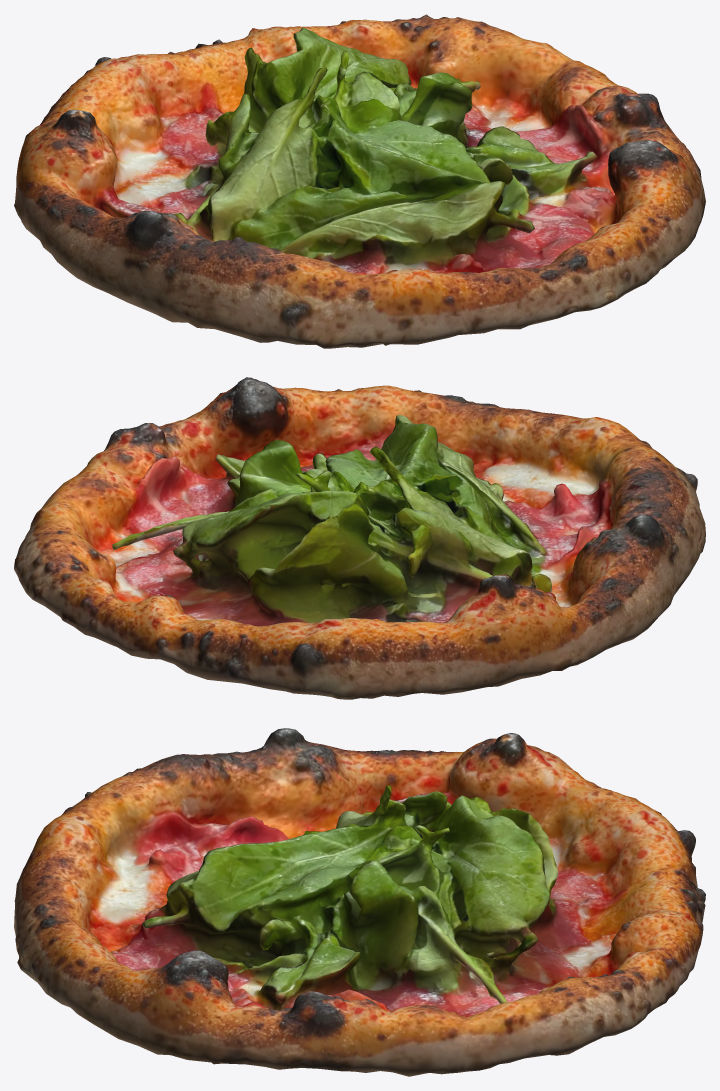
The model's file is aragulapizza.glb.
The picture shows the model from 3 angles, top to bottom: view 1: azimuth 30°, elevation 25°; view 2: azimuth 150°, elevation 25°; view 3: azimuth 270°, elevation 25°; orthographic projection. The views are drawn at different scales.
Bounding box in the file's own units: 0.9567 × 0.2368 × 0.9686.
1 material, 1 textured.
